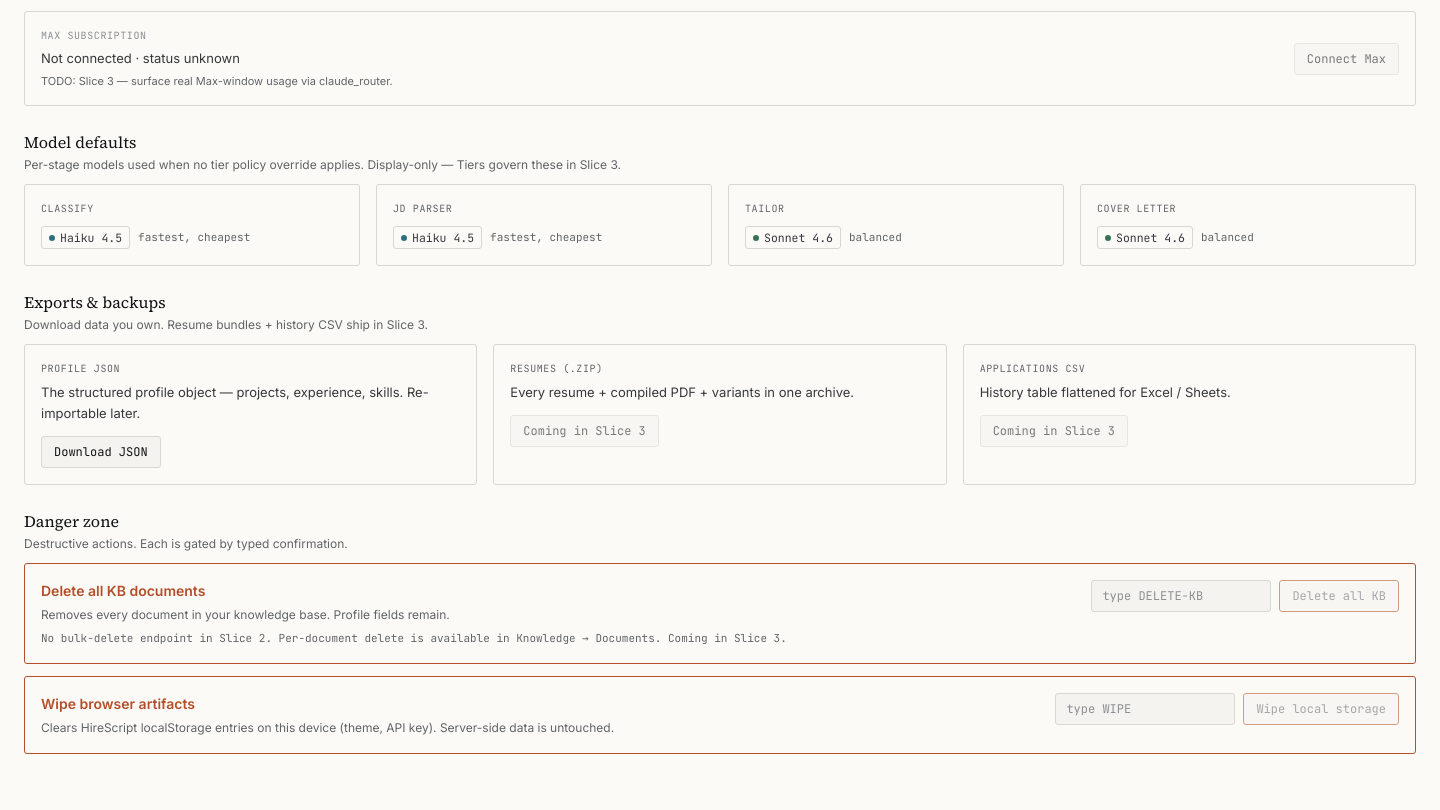
it: Settings route › danger zone: wipe button stays disabled until exact confirm word typed
(page scrolled)
Expected: the button with test id "danger-wipe-action" is disabled, [1243,692,1399,724]
// Wrong word — still disabled.
Type "wipe" into the field with test id "danger-wipe-input" at {"x": 1145, "y": 708}, box [1055,692,1235,724]
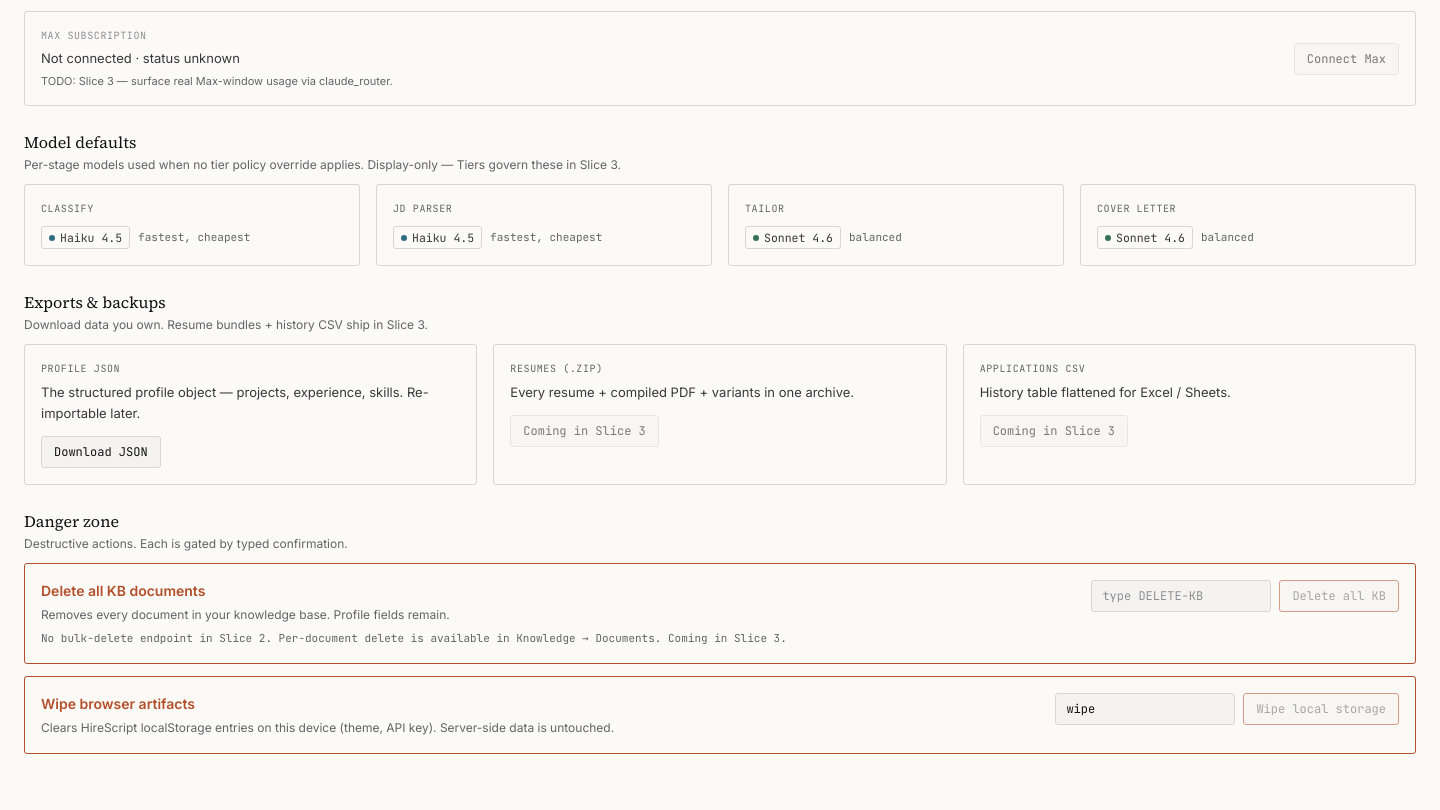
Expected: the button with test id "danger-wipe-action" is disabled, [1243,692,1399,724]
// Correct word — enables.
Replace the text in the field with test id "danger-wipe-input" with "WIPE" at {"x": 1145, "y": 708}, box [1055,692,1235,724]
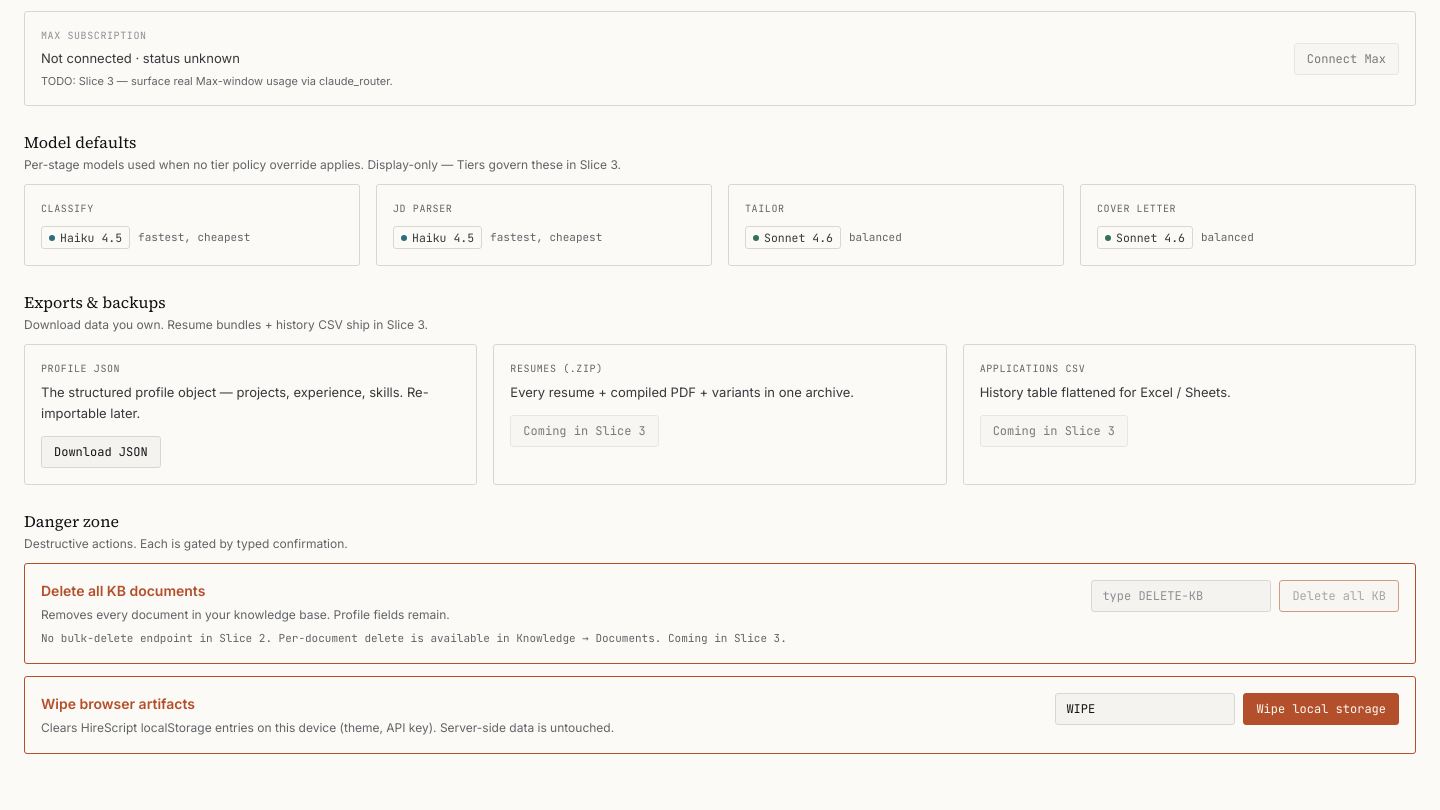
Expected: the button with test id "danger-wipe-action" is enabled
Click the button with test id "danger-wipe-action" at {"x": 1321, "y": 708}, box [1243,692,1399,724]
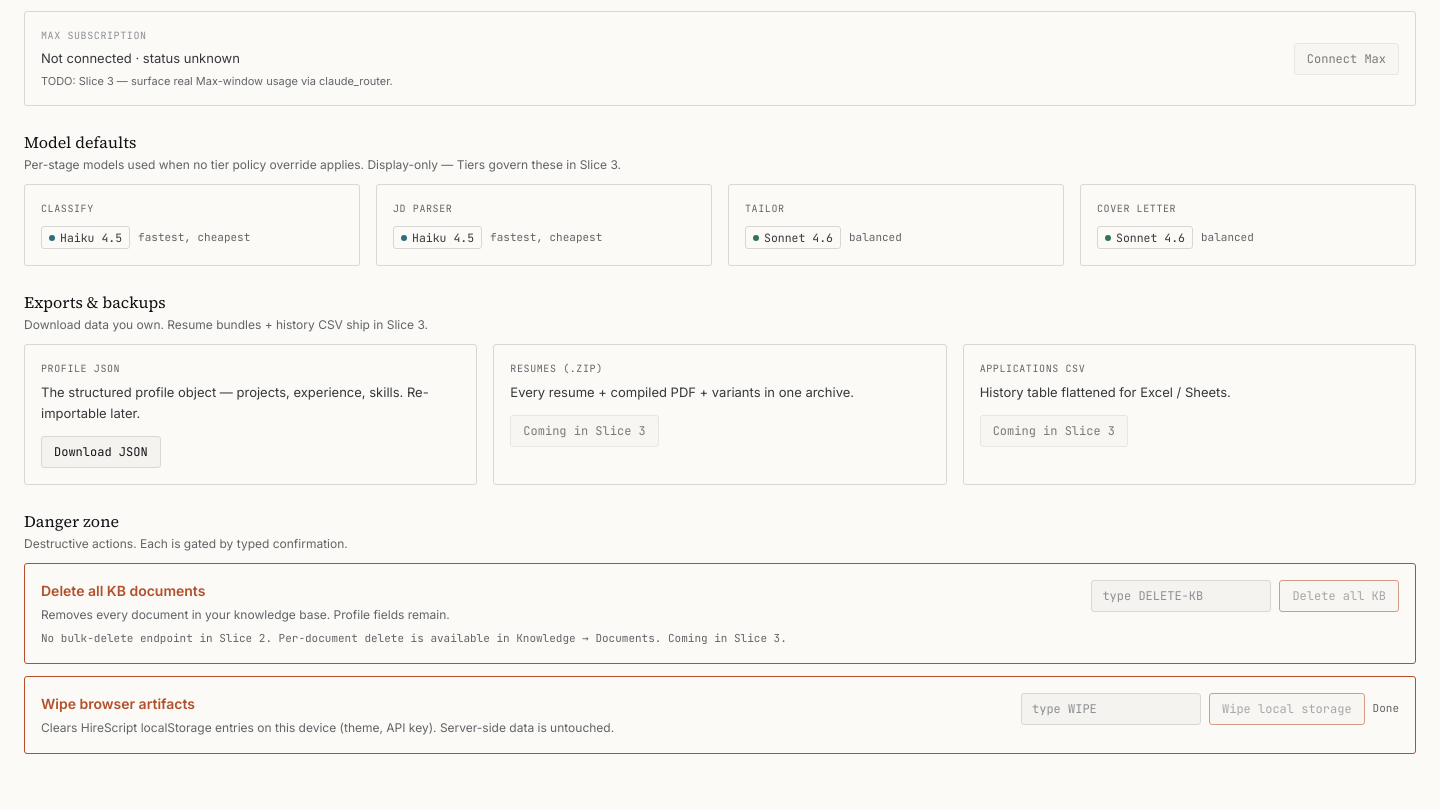
Expected: the text "Done" is shown, [1373,700,1399,717]
